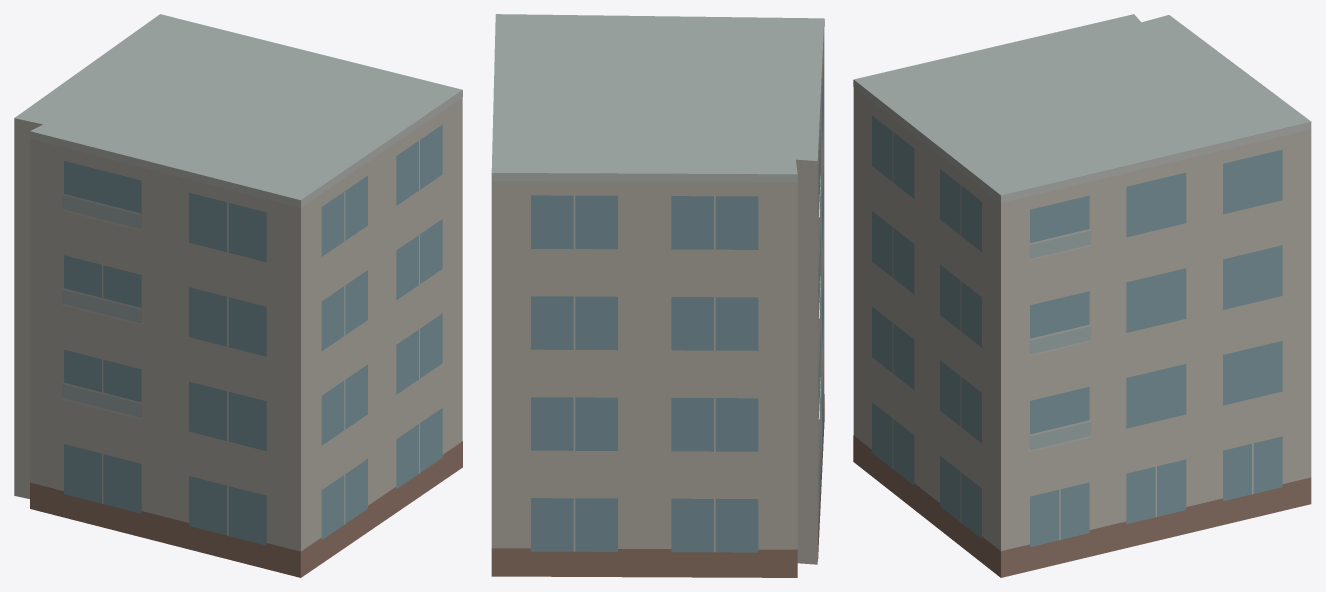
File: survey-upis-32721966.glb
3 views of the same model, side by side, from view 1: azimuth 30°, elevation 25°; view 2: azimuth 150°, elevation 25°; view 3: azimuth 270°, elevation 25° (orthographic). The views are drawn at different scales.
Visible parts, largest first — view 1: survey-upis-32721966.tmp; view 2: survey-upis-32721966.tmp; view 3: survey-upis-32721966.tmp.
Part boxes in pixels (x1,y1,x2,y2): survey-upis-32721966.tmp: [14, 14, 462, 577]; survey-upis-32721966.tmp: [491, 14, 824, 577]; survey-upis-32721966.tmp: [853, 14, 1311, 577].
Size of the model in its own units: 12.42 by 12.2 by 13.24.
